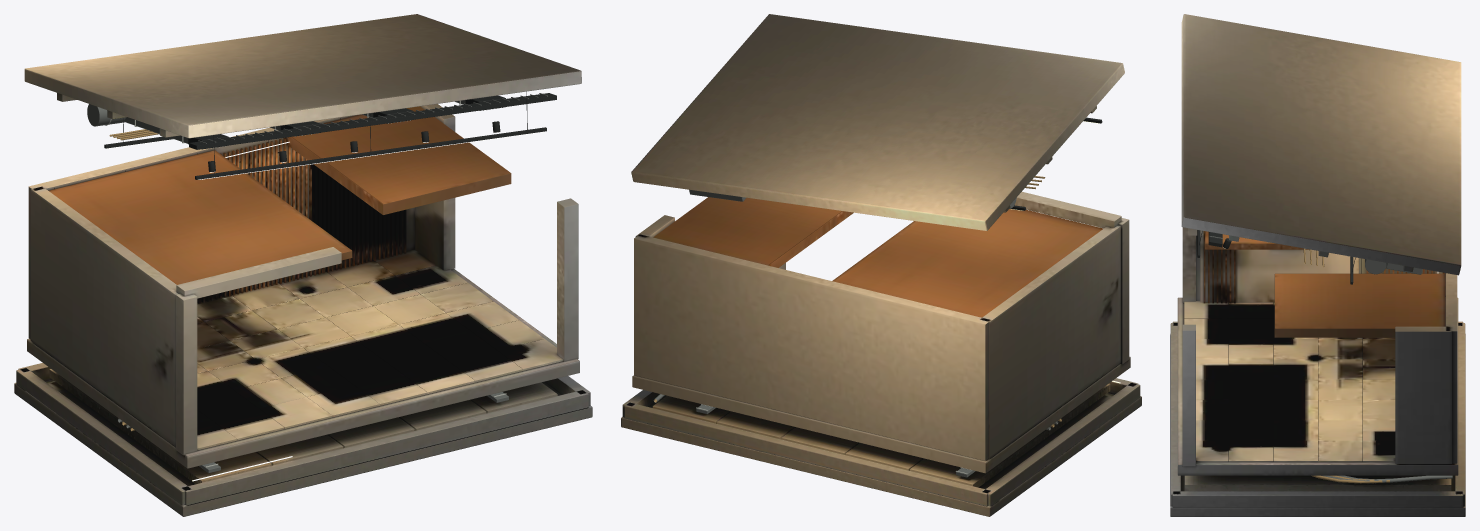
File: architecture.glb
3 views of the same model, side by side, from view 1: azimuth 30°, elevation 25°; view 2: azimuth 150°, elevation 25°; view 3: azimuth 270°, elevation 25° (orthographic). The views are drawn at different scales.
Visible parts, largest first — view 1: ShellGeometry, EngineeringGeometry, FoundationGeometry; view 2: ShellGeometry, EngineeringGeometry, FoundationGeometry; view 3: ShellGeometry, EngineeringGeometry, FoundationGeometry.
Part boxes in pixels (x1=…): ShellGeometry: x1=27, y1=104, x2=579, y2=468; EngineeringGeometry: x1=24, y1=14, x2=581, y2=179; FoundationGeometry: x1=14, y1=363, x2=592, y2=516; ShellGeometry: x1=632, y1=191, x2=1130, y2=473; EngineeringGeometry: x1=631, y1=14, x2=1124, y2=230; FoundationGeometry: x1=621, y1=378, x2=1141, y2=516; ShellGeometry: x1=1177, y1=227, x2=1458, y2=475; EngineeringGeometry: x1=1181, y1=14, x2=1461, y2=284; FoundationGeometry: x1=1170, y1=321, x2=1465, y2=516.
Bounding box in the file's own units: 8.6 × 7.69 × 6.15.
14 materials, 9 textured.
